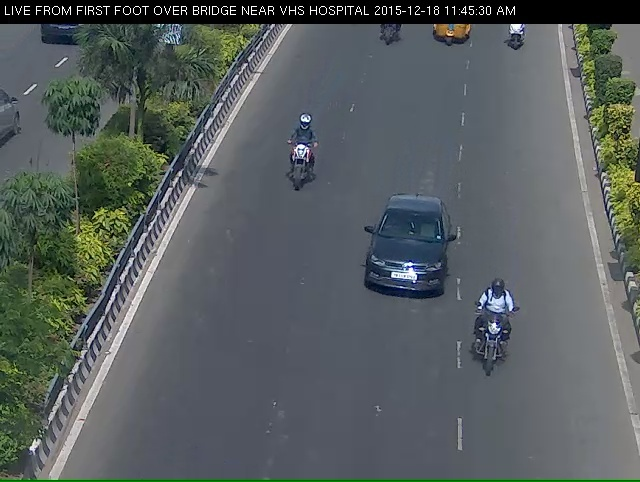Auto: (424, 21, 482, 54)
Car: (354, 210, 446, 328)
Person: (470, 286, 517, 405), (275, 111, 311, 220), (500, 24, 534, 55)
